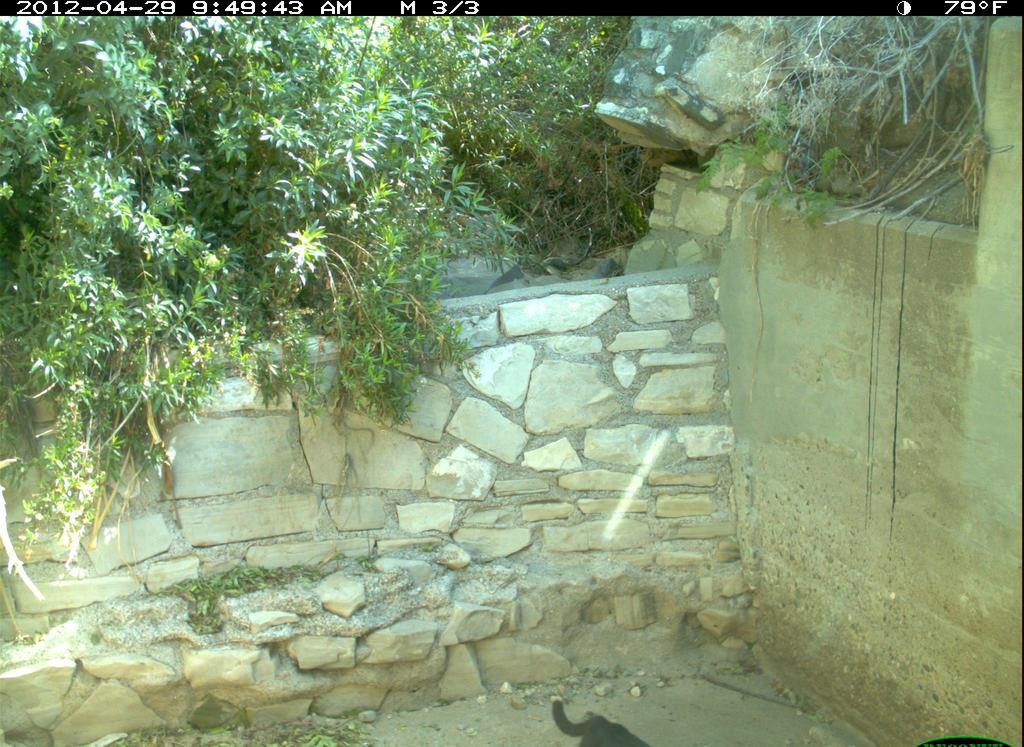cat: (539, 687, 664, 747)
